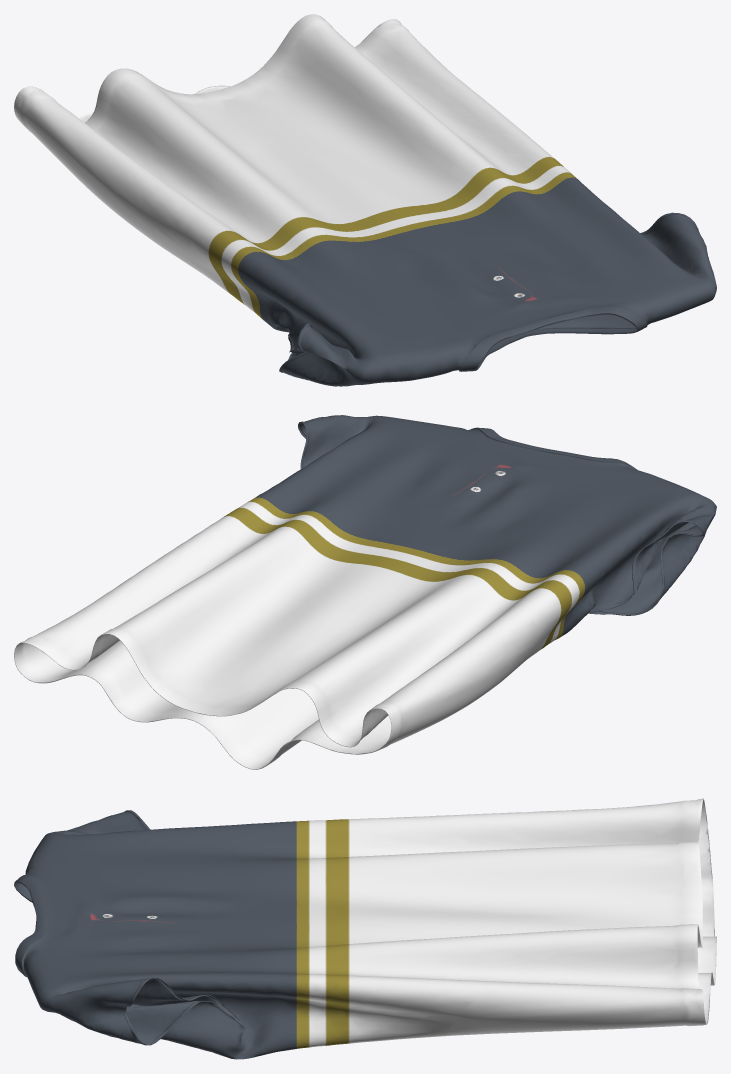
The model's file is TNSC_Tshirt_Ts1_3.obj.
3 views of the same model, one above another, from view 1: azimuth 30°, elevation 25°; view 2: azimuth 150°, elevation 25°; view 3: azimuth 270°, elevation 25° (orthographic). The views are drawn at different scales.
Size of the model in its own units: 16.15 by 4.09 by 24.91.
1 material, 1 textured.
